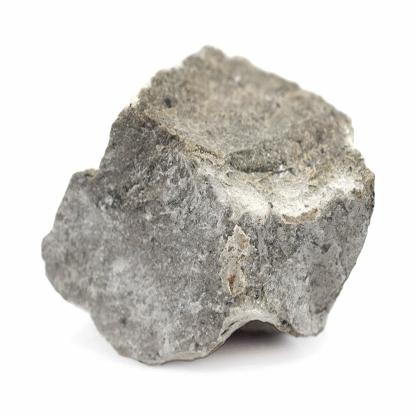Sedimentary_Limestone: (18, 34, 384, 374)
